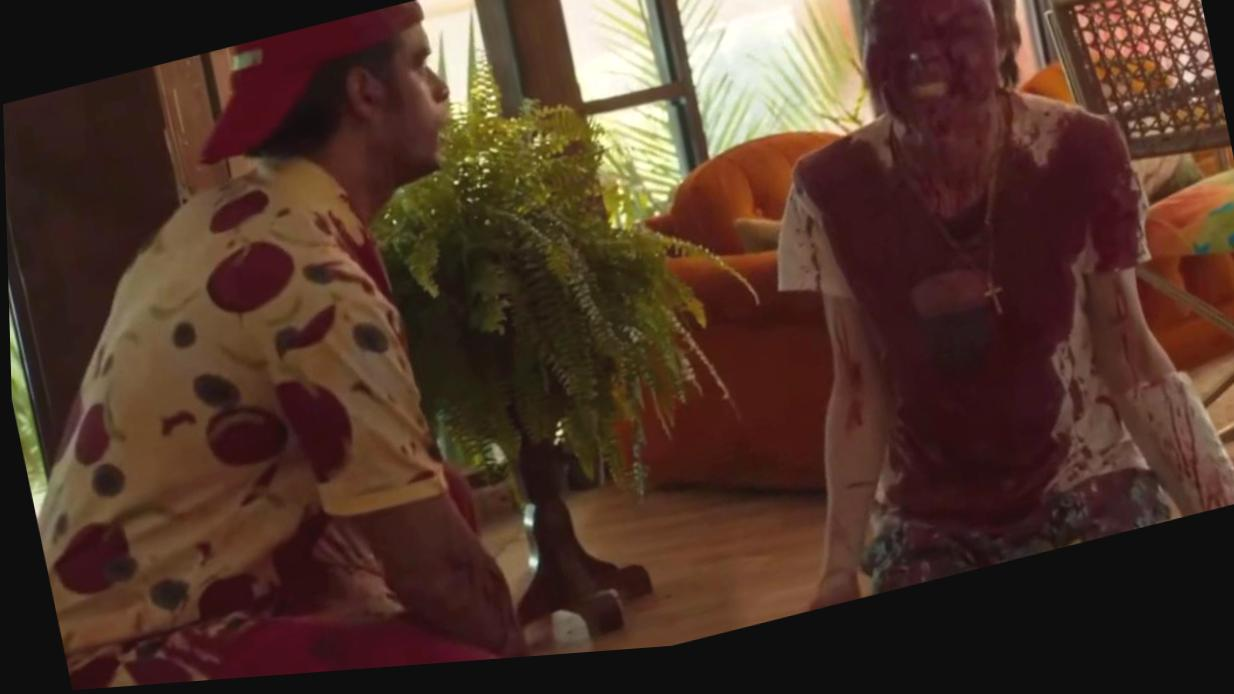Fire: (773, 0, 1234, 622)
